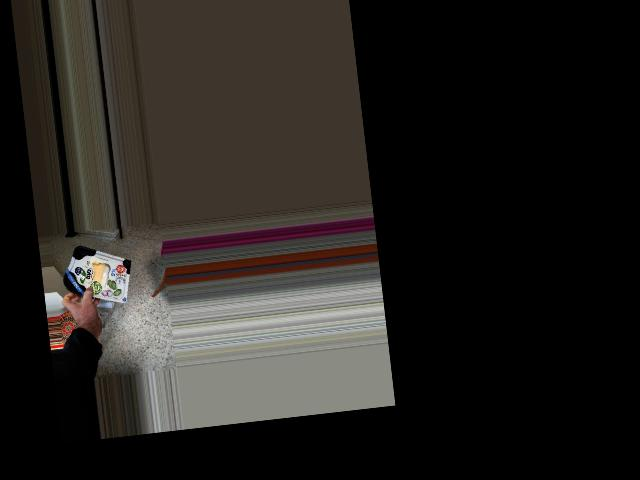cheese: (57, 244, 134, 299)
